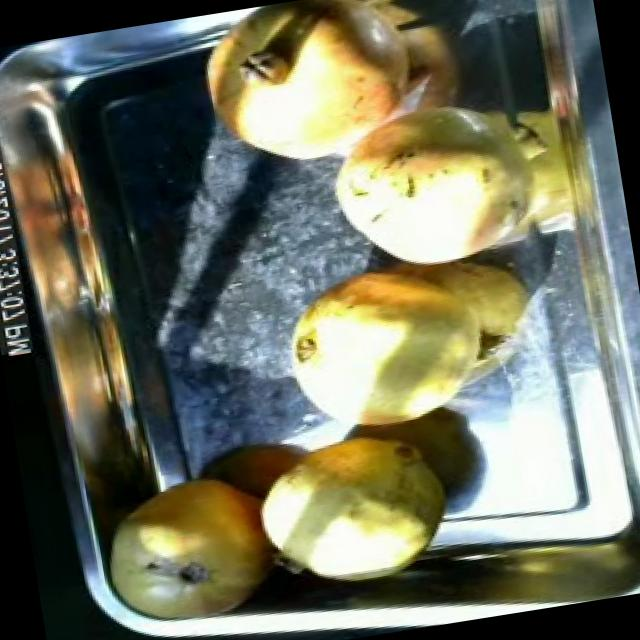fruit: (266, 236, 542, 449), (314, 72, 576, 290), (187, 0, 453, 185), (244, 413, 470, 600), (88, 463, 284, 640)
